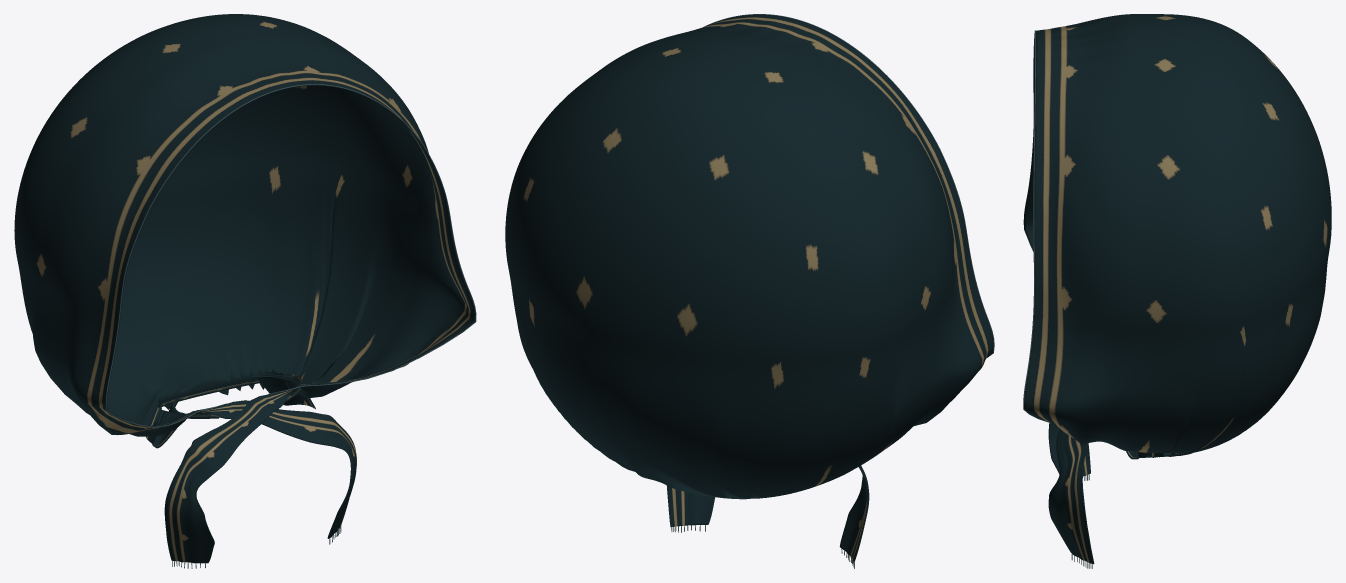
The model's file is Feminine-twin-braids-tshirt-pashmina250-headgear.glb.
3 renders of one model, left to right at view 1: azimuth 30°, elevation 25°; view 2: azimuth 150°, elevation 25°; view 3: azimuth 270°, elevation 25°, orthographic. The views are drawn at different scales.
Visible parts, largest first — view 1: 226 headgear / Headwear / continuous woven pashmina239, 226 headgear / Headwear / face edge239; view 2: 226 headgear / Headwear / continuous woven pashmina239, 226 headgear / Headwear / face edge239; view 3: 226 headgear / Headwear / continuous woven pashmina239, 226 headgear / Headwear / face edge239.
Part boxes in pixels (x1,y1,x2,y2): 226 headgear / Headwear / continuous woven pashmina239: (14,14,475,563); 226 headgear / Headwear / face edge239: (105,84,476,427); 226 headgear / Headwear / continuous woven pashmina239: (505,14,993,562); 226 headgear / Headwear / face edge239: (704,14,994,357); 226 headgear / Headwear / continuous woven pashmina239: (1023,14,1331,564); 226 headgear / Headwear / face edge239: (1023,30,1049,422).
Bounding box in the file's own units: 1.11 × 1.38 × 0.778.
3 materials, 1 textured.
